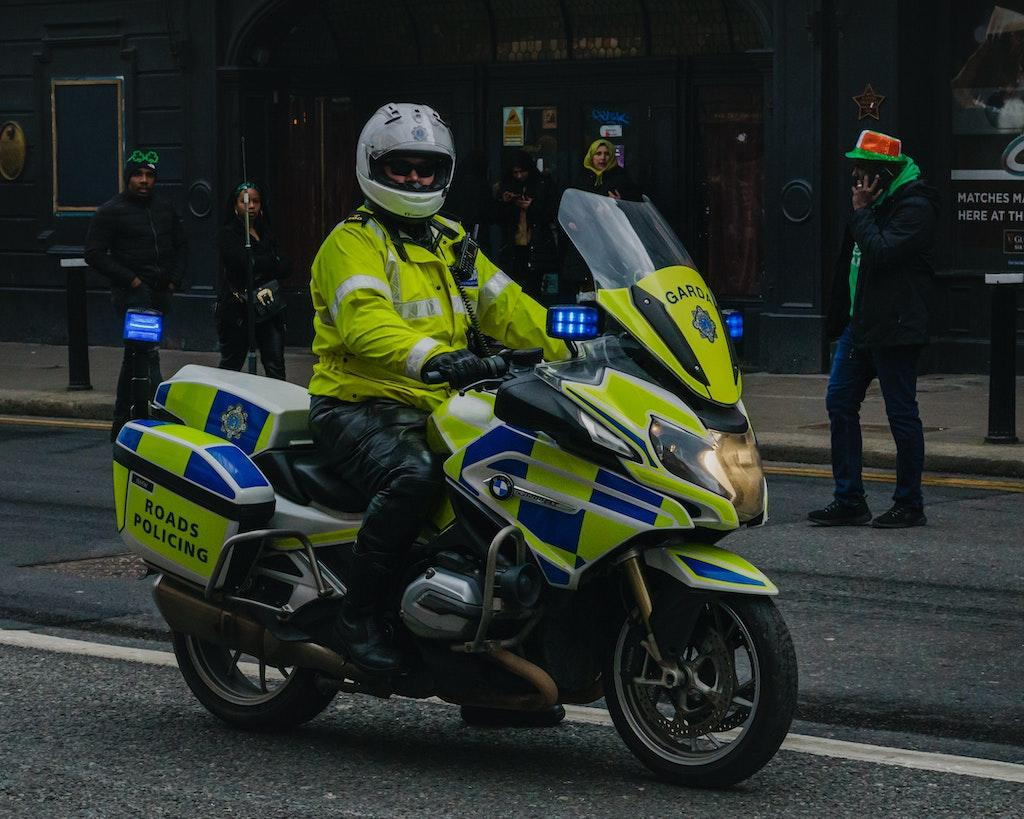helmet: (354, 101, 457, 225)
nohelmet: (123, 145, 160, 202), (229, 174, 268, 226), (583, 137, 619, 187)
